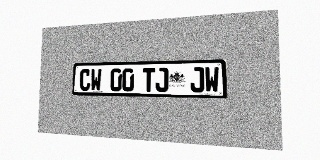0: (110, 68, 122, 91), (122, 68, 134, 91)
C: (79, 69, 90, 91)
J: (190, 67, 204, 92), (155, 67, 168, 92)
T: (142, 68, 155, 92)
W: (204, 67, 219, 93), (90, 69, 102, 91)
